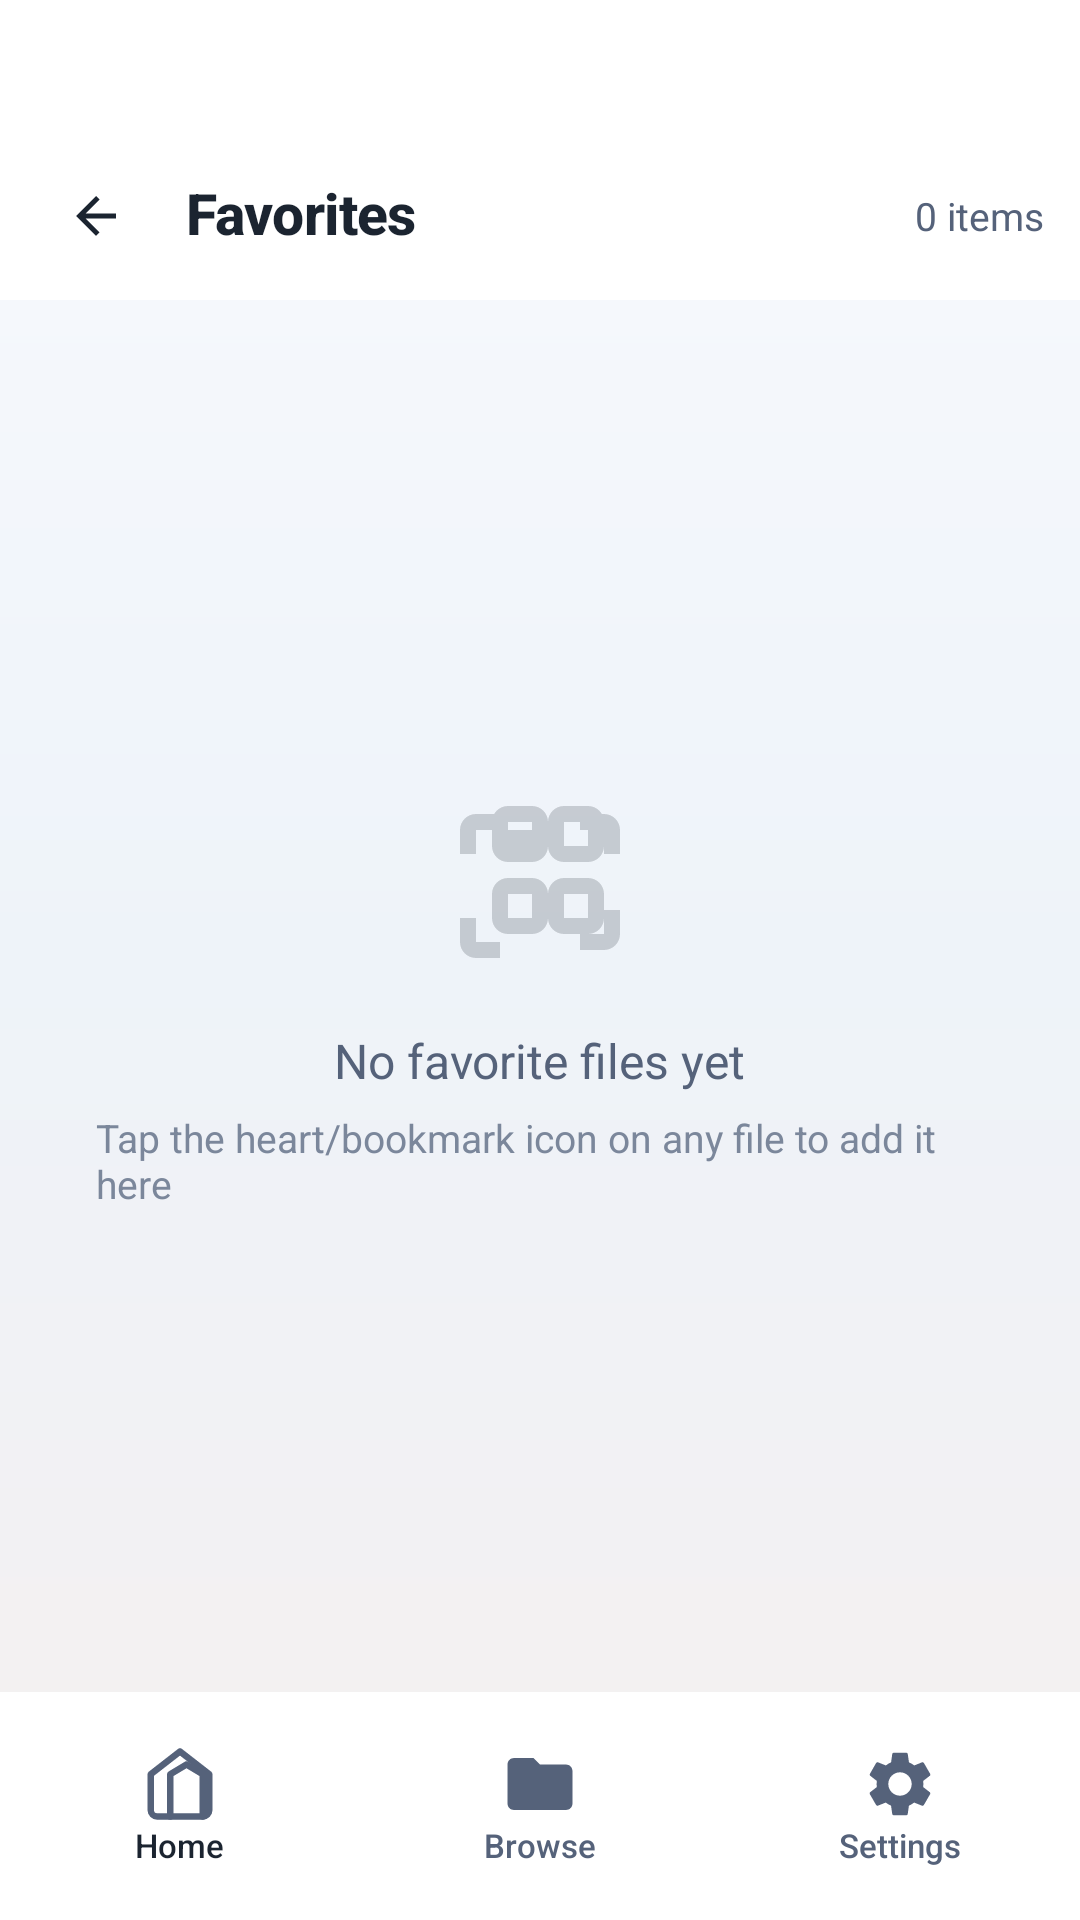

Named icons in this screenshot (1080×1920) and their centers, (x=x, y=y):
Back: (x=96, y=216)
